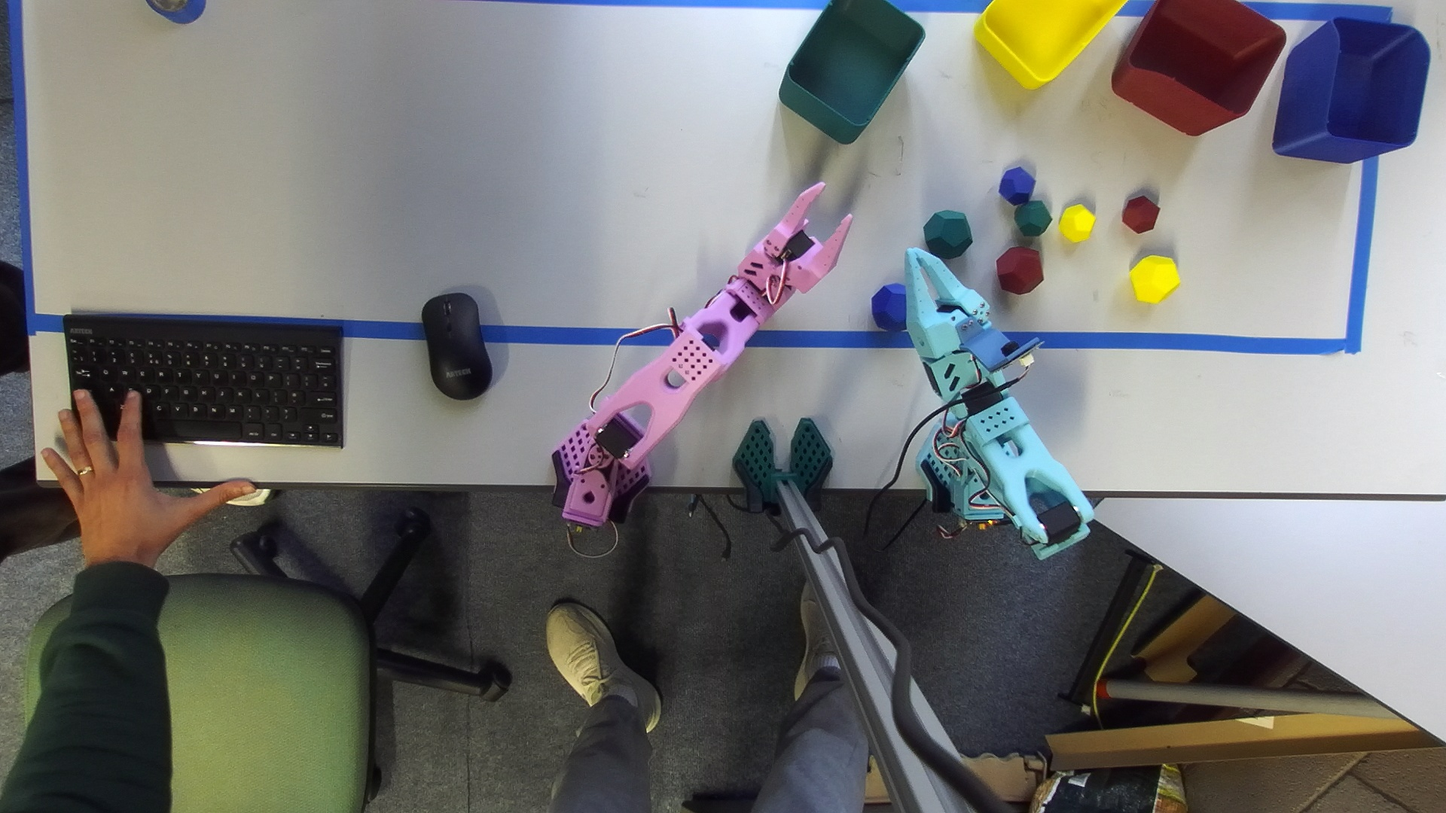bin: (1112, 0, 1286, 135), (1273, 18, 1429, 162), (779, 0, 924, 144), (974, 0, 1124, 88)
dodecahedron: (923, 210, 972, 260), (1130, 255, 1179, 303), (996, 247, 1043, 294), (871, 283, 906, 331), (1121, 192, 1159, 233), (998, 166, 1035, 205), (1014, 200, 1051, 236), (1059, 205, 1094, 242)
gripper: (731, 182, 852, 308), (905, 247, 990, 358)
